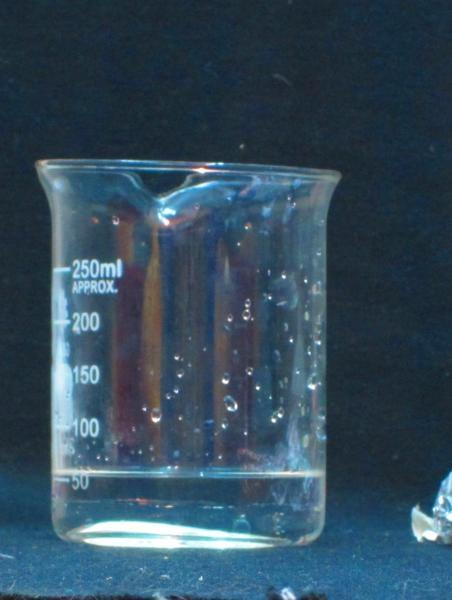Beaker: (32, 141, 342, 553)
